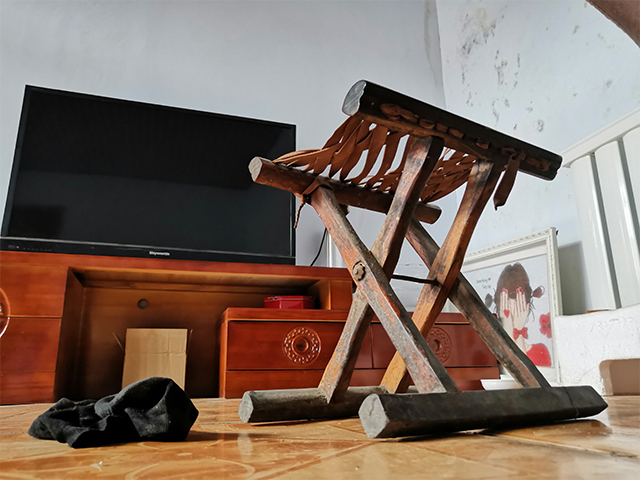cabinet: (1, 249, 504, 408)
socks: (25, 375, 201, 449)
stool: (235, 79, 611, 440)
